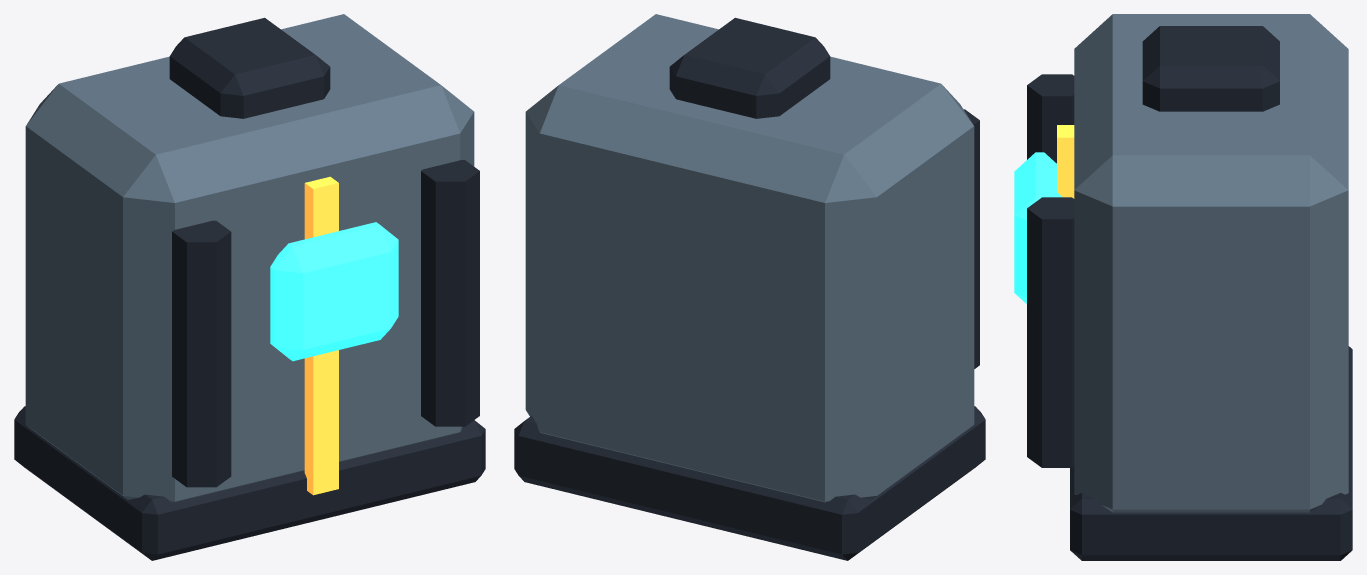
Rendered from SM_NPC_Torso_004_Robot.glb.
The picture shows the model from 3 angles, left to right: view 1: azimuth 30°, elevation 25°; view 2: azimuth 150°, elevation 25°; view 3: azimuth 270°, elevation 25°; orthographic projection.
Parts seen in each view (by area): view 1: SM_NPC_Torso_004_Robot; view 2: SM_NPC_Torso_004_Robot; view 3: SM_NPC_Torso_004_Robot.
Boxes of the visible parts, bbox=[...] form: SM_NPC_Torso_004_Robot: bbox=[14, 14, 485, 560]; SM_NPC_Torso_004_Robot: bbox=[514, 14, 985, 560]; SM_NPC_Torso_004_Robot: bbox=[1014, 14, 1352, 560].
Bounding box in the file's own units: 0.48 × 0.56 × 0.395.
